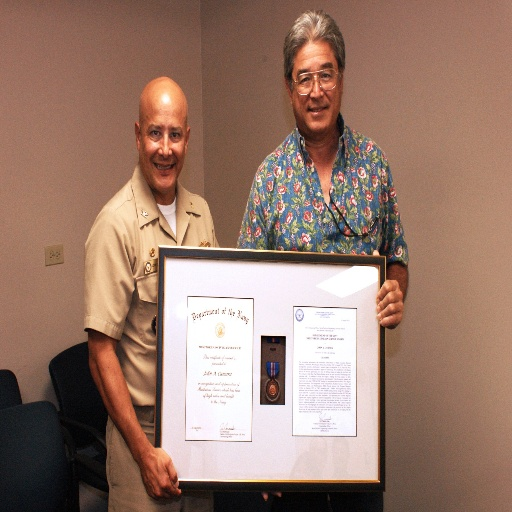hand: (140, 445, 182, 506), (374, 278, 403, 329), (260, 493, 282, 503)
